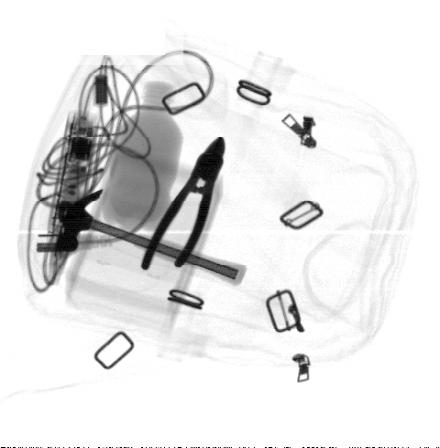Hammer: (57, 189, 247, 287)
Pliers: (141, 135, 227, 270)
